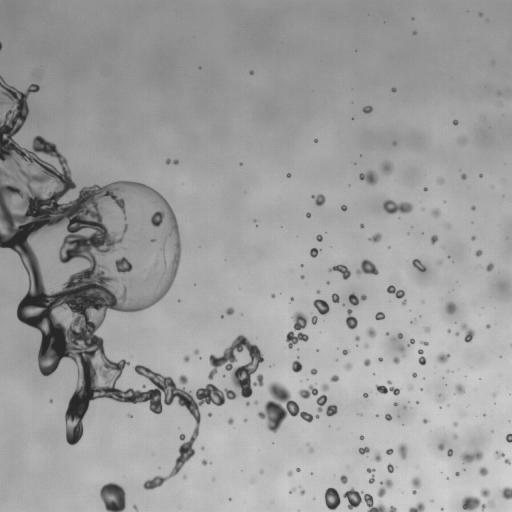droplet: (285, 311, 309, 349), (460, 487, 494, 511), (355, 259, 378, 276), (324, 487, 341, 510), (327, 264, 351, 279), (460, 449, 483, 464), (298, 382, 318, 399), (376, 478, 393, 497), (359, 169, 378, 185), (313, 298, 329, 316), (460, 322, 474, 342), (345, 309, 357, 329), (348, 292, 366, 305), (380, 160, 394, 175), (410, 475, 421, 494), (412, 258, 426, 272), (310, 193, 325, 206), (291, 355, 302, 372), (498, 486, 511, 500), (408, 501, 425, 511), (397, 443, 407, 459), (368, 232, 382, 243), (436, 352, 450, 363), (453, 383, 465, 395), (445, 301, 456, 314), (326, 403, 337, 416), (496, 87, 511, 96), (366, 327, 377, 339), (25, 94, 36, 105), (11, 132, 22, 143), (21, 139, 32, 150), (74, 178, 85, 189), (66, 189, 77, 200), (58, 194, 69, 205), (305, 200, 316, 211), (478, 254, 489, 265), (348, 260, 359, 271), (20, 272, 31, 283), (373, 320, 384, 331), (354, 323, 365, 334), (30, 328, 41, 339), (223, 335, 234, 346), (343, 337, 354, 348), (256, 363, 267, 374), (180, 364, 191, 375), (122, 365, 133, 376), (318, 371, 329, 382), (447, 374, 458, 385), (310, 375, 321, 386), (212, 376, 223, 387), (115, 379, 126, 390), (215, 379, 226, 390), (132, 380, 143, 391), (186, 385, 197, 396), (288, 390, 299, 401), (101, 396, 112, 407), (297, 399, 308, 410), (198, 402, 209, 413), (80, 414, 91, 425), (388, 453, 399, 464), (183, 458, 194, 469), (469, 459, 480, 470), (376, 468, 387, 479), (478, 476, 489, 487), (282, 477, 293, 488), (357, 483, 368, 494), (367, 484, 378, 495), (491, 489, 502, 500), (379, 496, 390, 507), (309, 247, 321, 257), (372, 450, 382, 462), (456, 136, 467, 146), (387, 462, 397, 473), (478, 466, 488, 476), (494, 450, 505, 459), (357, 446, 369, 454), (431, 208, 440, 218), (331, 293, 340, 303), (343, 362, 353, 371), (436, 393, 445, 403), (362, 105, 373, 113), (430, 234, 438, 245), (374, 312, 385, 320), (225, 306, 234, 315), (182, 354, 191, 363), (5, 77, 14, 86), (385, 153, 394, 162), (391, 160, 400, 169), (373, 167, 382, 176), (389, 169, 398, 178), (436, 214, 445, 223), (339, 293, 348, 302), (451, 310, 460, 319), (416, 318, 425, 327), (360, 333, 369, 342), (247, 335, 256, 344), (383, 355, 392, 364), (59, 356, 68, 365), (301, 363, 310, 372), (216, 364, 225, 373), (262, 376, 271, 385), (412, 390, 421, 399), (265, 392, 274, 401), (257, 402, 266, 411), (260, 417, 269, 426), (466, 445, 475, 454), (452, 449, 461, 458), (381, 454, 390, 463), (471, 489, 480, 498), (123, 495, 132, 504), (339, 497, 348, 506), (504, 442, 511, 453), (436, 175, 444, 184), (486, 262, 494, 271), (310, 315, 318, 324), (330, 374, 339, 382), (321, 383, 329, 392), (340, 474, 347, 484), (505, 447, 511, 458), (121, 505, 132, 511), (335, 505, 346, 511), (356, 505, 367, 511), (397, 505, 408, 511), (363, 358, 371, 366), (385, 413, 393, 421), (227, 416, 234, 425), (505, 433, 511, 443), (475, 249, 482, 257), (392, 356, 399, 364), (385, 448, 393, 455), (504, 458, 511, 466), (0, 222, 5, 233), (447, 448, 453, 457), (368, 474, 374, 483), (419, 341, 429, 346), (460, 173, 467, 180), (340, 204, 347, 211), (423, 326, 430, 333), (310, 368, 317, 375), (437, 443, 444, 450), (286, 470, 293, 477), (25, 114, 32, 121), (43, 134, 50, 141), (55, 145, 62, 152), (70, 175, 77, 182), (394, 197, 401, 204), (437, 203, 444, 210), (424, 207, 431, 214), (394, 209, 401, 216), (439, 209, 446, 216), (375, 240, 382, 247), (313, 241, 320, 248), (3, 246, 10, 253), (178, 257, 185, 264), (442, 257, 449, 264), (177, 262, 184, 269), (297, 267, 304, 274), (334, 270, 341, 277), (349, 271, 356, 278), (174, 272, 181, 279), (170, 282, 177, 289), (18, 291, 25, 298), (164, 291, 171, 298), (446, 295, 453, 302), (325, 297, 332, 304), (345, 301, 352, 308), (454, 302, 461, 309), (11, 303, 18, 310), (439, 303, 446, 310), (105, 307, 112, 314), (449, 312, 456, 319), (466, 322, 473, 329), (300, 327, 307, 334), (351, 327, 358, 334), (93, 329, 100, 336), (459, 330, 466, 337), (402, 335, 409, 342), (296, 339, 303, 346), (101, 341, 108, 348), (413, 342, 420, 349), (394, 350, 401, 357), (214, 351, 221, 358), (189, 353, 196, 360), (112, 356, 119, 363), (370, 357, 377, 364), (285, 362, 292, 369), (206, 363, 213, 370), (50, 370, 57, 377), (161, 370, 168, 377), (249, 374, 256, 381), (458, 377, 465, 384), (328, 380, 335, 387), (175, 381, 182, 388), (301, 383, 308, 390), (448, 384, 455, 391), (463, 384, 470, 391), (66, 390, 73, 397), (376, 391, 383, 398), (455, 393, 462, 400), (247, 394, 254, 401), (309, 394, 316, 401), (391, 394, 398, 401), (125, 401, 132, 408), (61, 402, 68, 409), (180, 405, 187, 412), (284, 412, 291, 419), (199, 413, 206, 420), (451, 426, 458, 433), (77, 437, 84, 444), (400, 437, 407, 444), (358, 440, 365, 447), (191, 442, 198, 449), (405, 448, 412, 455), (392, 449, 399, 456), (367, 450, 374, 457), (168, 460, 175, 467), (463, 461, 470, 468), (486, 465, 493, 472), (159, 470, 166, 477), (384, 471, 391, 478), (146, 473, 153, 480), (475, 473, 482, 480), (103, 477, 110, 484), (419, 477, 426, 484), (114, 478, 121, 485), (406, 483, 413, 490), (384, 487, 391, 494), (337, 489, 344, 496), (479, 496, 486, 503), (372, 499, 379, 506), (456, 499, 463, 506), (410, 500, 417, 507), (383, 502, 390, 509), (253, 219, 259, 227), (342, 349, 350, 355), (366, 468, 375, 473), (506, 479, 511, 488), (98, 506, 107, 511), (472, 506, 481, 511), (316, 234, 322, 241), (436, 259, 442, 266), (410, 317, 416, 324), (363, 342, 369, 349), (363, 392, 369, 399), (132, 504, 138, 511), (422, 418, 430, 423), (452, 119, 458, 125), (400, 299, 406, 305), (193, 348, 199, 354), (407, 384, 413, 390), (452, 421, 458, 427), (459, 411, 464, 418), (359, 434, 364, 441), (470, 205, 475, 211), (306, 212, 311, 218), (444, 223, 450, 228), (470, 235, 476, 240), (270, 293, 276, 298), (289, 297, 294, 303), (354, 335, 359, 341), (492, 391, 497, 397), (393, 402, 399, 407), (452, 433, 457, 439), (507, 497, 511, 504), (422, 507, 429, 511), (483, 507, 490, 511), (249, 70, 254, 75), (391, 87, 396, 92), (392, 141, 397, 146), (446, 328, 451, 333), (378, 357, 383, 362), (412, 372, 417, 377), (207, 412, 212, 417), (182, 474, 187, 479), (481, 14, 486, 19), (248, 65, 253, 70), (33, 79, 38, 84), (498, 95, 503, 100), (366, 100, 371, 105), (362, 101, 367, 106), (371, 104, 376, 109), (369, 110, 374, 115), (363, 112, 368, 117), (23, 119, 28, 124), (18, 127, 23, 132), (34, 131, 39, 136), (161, 156, 166, 161), (168, 161, 173, 166), (175, 163, 180, 168), (361, 169, 366, 174), (465, 172, 470, 177), (354, 174, 359, 179), (456, 175, 461, 180), (113, 176, 118, 181), (127, 176, 132, 181), (134, 177, 139, 182), (361, 178, 366, 183), (459, 178, 464, 183), (144, 180, 149, 185), (148, 182, 153, 187), (153, 185, 158, 190), (158, 189, 163, 194), (313, 191, 318, 196), (162, 193, 167, 198), (384, 195, 389, 200), (324, 196, 329, 201), (166, 198, 171, 203), (310, 198, 315, 203), (321, 202, 326, 207), (378, 202, 383, 207), (169, 203, 174, 208), (172, 208, 177, 213), (381, 209, 386, 214), (175, 215, 180, 220), (176, 220, 181, 225), (177, 226, 182, 231), (368, 232, 373, 237), (321, 233, 326, 238), (426, 237, 431, 242), (368, 240, 373, 245), (434, 240, 439, 245), (179, 243, 184, 248), (473, 246, 478, 251), (478, 254, 483, 259), (367, 256, 372, 261), (333, 260, 338, 265), (407, 260, 412, 265), (482, 262, 487, 267), (356, 264, 361, 269), (374, 264, 379, 269), (346, 265, 351, 270), (411, 266, 416, 271), (491, 266, 496, 271), (368, 272, 373, 277), (347, 275, 352, 280), (299, 278, 304, 283), (394, 285, 399, 290), (347, 289, 352, 294), (273, 290, 278, 295), (390, 292, 395, 297), (355, 293, 360, 298), (315, 294, 320, 299), (397, 297, 402, 302), (157, 299, 162, 304), (358, 299, 363, 304), (154, 301, 159, 306), (225, 303, 230, 308), (150, 304, 155, 309), (403, 304, 408, 309), (144, 307, 149, 312), (141, 308, 146, 313), (133, 310, 138, 315), (314, 310, 319, 315), (126, 311, 131, 316), (325, 311, 330, 316), (350, 311, 355, 316), (343, 312, 348, 317), (223, 313, 228, 318), (228, 313, 233, 318), (306, 318, 311, 323), (356, 320, 361, 325), (423, 321, 428, 326), (343, 324, 348, 329), (289, 326, 294, 331), (441, 328, 446, 333), (450, 328, 455, 333), (283, 329, 288, 334), (392, 332, 397, 337), (281, 334, 286, 339), (471, 336, 476, 341), (306, 338, 311, 343), (414, 338, 419, 343), (357, 339, 362, 344), (283, 341, 288, 346), (292, 343, 297, 348), (420, 344, 425, 349), (257, 345, 262, 350), (103, 348, 108, 353), (337, 349, 342, 354), (442, 349, 447, 354), (179, 353, 184, 358), (291, 356, 296, 361), (446, 356, 451, 361), (297, 358, 302, 363), (425, 358, 430, 363), (33, 360, 38, 365), (138, 360, 143, 365), (186, 360, 191, 365), (258, 361, 263, 366), (359, 361, 364, 366), (391, 362, 396, 367), (145, 363, 150, 368), (310, 363, 315, 368), (363, 365, 368, 370), (152, 367, 157, 372), (36, 370, 41, 375), (204, 370, 209, 375), (296, 370, 301, 375), (132, 371, 137, 376), (441, 371, 446, 376), (327, 372, 332, 377), (185, 373, 190, 378), (308, 373, 313, 378), (337, 373, 342, 378), (41, 374, 46, 379), (416, 374, 421, 379), (186, 376, 191, 381), (261, 377, 266, 382), (377, 380, 382, 385), (114, 383, 119, 388), (201, 383, 206, 388), (384, 383, 389, 388), (392, 383, 397, 388), (151, 384, 156, 389), (140, 387, 145, 392), (372, 387, 377, 392), (387, 390, 392, 395), (316, 391, 321, 396), (380, 392, 385, 397), (48, 393, 53, 398), (173, 395, 178, 400), (223, 396, 228, 401), (243, 396, 248, 401), (493, 396, 498, 401), (88, 399, 93, 404), (405, 402, 410, 407), (434, 402, 439, 407), (440, 402, 445, 407), (220, 403, 225, 408), (397, 403, 402, 408), (321, 404, 326, 409), (298, 407, 303, 412), (150, 411, 155, 416), (295, 413, 300, 418), (331, 413, 336, 418), (254, 414, 259, 419), (379, 414, 384, 419), (223, 416, 228, 421), (455, 417, 460, 422), (191, 418, 196, 423), (232, 419, 237, 424), (301, 419, 306, 424), (227, 424, 232, 429), (197, 428, 202, 433), (267, 429, 272, 434), (61, 434, 66, 439), (184, 436, 189, 441), (178, 439, 183, 444), (439, 439, 444, 444), (63, 440, 68, 445), (433, 442, 438, 447), (303, 445, 308, 450), (442, 448, 447, 453), (175, 451, 180, 456), (504, 453, 509, 458), (189, 455, 194, 460), (499, 456, 504, 461), (290, 466, 295, 471), (392, 468, 397, 473), (458, 469, 463, 474), (292, 470, 297, 475), (341, 470, 346, 475), (282, 472, 287, 477), (366, 472, 371, 477), (485, 472, 490, 477), (287, 475, 292, 480), (139, 479, 144, 484), (162, 480, 167, 485), (97, 484, 102, 489), (153, 486, 158, 491), (353, 486, 358, 491), (295, 487, 300, 492), (321, 487, 326, 492), (147, 488, 152, 493), (320, 499, 325, 504), (321, 502, 326, 507), (455, 331, 459, 337), (412, 30, 416, 35), (313, 138, 318, 142), (286, 173, 291, 177), (478, 173, 483, 177), (423, 187, 428, 191), (360, 223, 364, 228), (300, 275, 305, 279), (486, 324, 490, 329), (269, 363, 274, 367), (142, 384, 146, 389), (49, 398, 53, 403), (253, 400, 258, 404), (295, 467, 300, 471), (259, 469, 263, 474), (455, 471, 459, 476), (429, 499, 434, 503), (127, 414, 133, 417), (478, 12, 482, 16), (420, 207, 424, 211), (326, 280, 330, 284), (316, 290, 320, 294), (415, 400, 419, 404), (438, 405, 442, 409), (243, 418, 247, 422), (329, 508, 334, 511), (404, 508, 409, 511), (464, 508, 469, 511), (239, 162, 243, 165), (406, 231, 409, 235), (387, 245, 390, 249), (240, 312, 243, 316), (220, 314, 223, 318), (295, 348, 299, 351), (334, 358, 338, 361), (403, 405, 406, 409), (446, 404, 450, 407), (482, 413, 486, 416), (490, 430, 494, 433), (201, 446, 204, 450), (462, 468, 466, 471), (212, 477, 215, 481), (228, 497, 231, 501), (0, 158, 2, 163), (411, 17, 414, 20), (198, 66, 201, 69), (443, 200, 446, 203), (447, 255, 450, 258), (300, 264, 303, 267), (177, 299, 180, 302), (421, 300, 424, 303), (342, 303, 345, 306), (499, 355, 502, 358), (198, 356, 201, 359), (372, 372, 375, 375), (222, 374, 225, 377), (422, 377, 425, 380), (299, 379, 302, 382), (420, 388, 423, 391), (376, 414, 379, 417), (397, 415, 400, 418), (310, 472, 313, 475), (446, 476, 449, 479), (312, 497, 315, 500), (440, 507, 443, 510), (479, 9, 482, 12), (411, 13, 414, 16), (411, 19, 414, 22), (415, 28, 418, 31), (409, 30, 412, 33), (412, 34, 415, 37), (1, 44, 4, 47), (199, 63, 202, 66), (195, 64, 198, 67), (200, 67, 203, 70), (196, 68, 199, 71), (253, 71, 256, 74), (249, 74, 252, 77), (2, 76, 5, 79), (392, 84, 395, 87), (395, 87, 398, 90), (388, 88, 391, 91), (391, 91, 394, 94), (348, 116, 351, 119), (353, 116, 356, 119), (454, 116, 457, 119), (351, 119, 354, 122), (457, 122, 460, 125), (451, 123, 454, 126), (313, 135, 316, 138), (317, 138, 320, 141), (313, 142, 316, 145), (356, 153, 359, 156), (170, 159, 173, 162), (178, 159, 181, 162), (239, 159, 242, 162), (164, 163, 167, 166), (236, 163, 239, 166), (239, 165, 242, 168), (288, 170, 291, 173), (478, 170, 481, 173), (459, 171, 462, 174), (283, 174, 286, 177), (290, 174, 293, 177), (477, 176, 480, 179), (286, 177, 289, 180), (140, 180, 143, 183), (347, 180, 350, 183), (424, 184, 427, 187), (420, 187, 423, 190), (427, 187, 430, 190), (423, 190, 426, 193), (308, 193, 311, 196), (339, 202, 342, 205), (344, 202, 347, 205), (468, 204, 471, 207), (474, 204, 477, 207), (474, 208, 477, 211), (339, 209, 342, 212), (344, 209, 347, 212), (469, 209, 472, 212), (303, 211, 306, 214), (310, 213, 313, 216), (303, 215, 306, 218), (255, 216, 258, 219), (360, 220, 363, 223), (255, 221, 258, 224), (357, 224, 360, 227), (363, 224, 366, 227), (255, 226, 258, 229), (360, 227, 363, 230), (419, 229, 422, 232), (314, 232, 317, 235), (471, 232, 474, 235), (468, 235, 471, 238), (321, 238, 324, 241), (472, 239, 475, 242), (390, 244, 393, 247), (388, 248, 391, 251), (307, 249, 310, 252), (448, 252, 451, 255), (309, 255, 312, 258), (444, 255, 447, 258), (412, 256, 415, 259), (416, 256, 419, 259), (449, 256, 452, 259), (300, 260, 303, 263), (420, 260, 423, 263), (303, 263, 306, 266), (344, 263, 347, 266), (20, 264, 23, 267), (329, 265, 332, 268), (298, 266, 301, 269), (301, 266, 304, 269), (303, 273, 306, 276), (297, 276, 300, 279), (323, 279, 326, 282), (190, 283, 193, 286), (195, 283, 198, 286), (324, 283, 327, 286), (385, 284, 388, 287), (316, 286, 319, 289), (402, 288, 405, 291), (331, 290, 334, 293), (337, 292, 340, 295), (293, 296, 296, 299), (179, 297, 182, 300), (271, 297, 274, 300), (338, 297, 341, 300), (287, 298, 290, 301), (174, 299, 177, 302), (179, 300, 182, 303), (290, 300, 293, 303), (405, 300, 408, 303), (376, 309, 379, 312), (380, 309, 383, 312), (373, 311, 376, 314), (418, 311, 421, 314), (217, 314, 220, 317), (415, 315, 418, 318), (372, 316, 375, 319), (410, 317, 413, 320), (376, 319, 379, 322), (406, 320, 409, 323), (315, 321, 318, 324), (410, 323, 413, 326), (489, 323, 492, 326), (482, 324, 485, 327), (421, 327, 424, 330), (488, 327, 491, 330), (400, 330, 403, 333), (382, 331, 385, 334), (307, 334, 310, 337), (387, 334, 390, 337), (409, 335, 412, 338), (424, 338, 427, 341), (354, 340, 357, 343), (407, 340, 410, 343), (466, 341, 469, 344), (409, 343, 412, 346), (316, 345, 319, 348), (343, 346, 346, 349), (355, 346, 358, 349), (312, 348, 315, 351), (315, 351, 318, 354), (448, 351, 451, 354), (497, 352, 500, 355), (196, 353, 199, 356), (345, 353, 348, 356), (342, 354, 345, 357), (378, 354, 381, 357), (382, 357, 385, 360), (498, 357, 501, 360), (124, 358, 127, 361), (377, 360, 380, 363), (380, 360, 383, 363), (417, 362, 420, 365), (314, 366, 317, 369), (316, 370, 319, 373), (374, 371, 377, 374), (409, 371, 412, 374), (448, 371, 451, 374), (416, 372, 419, 375), (370, 374, 373, 377), (409, 374, 412, 377), (477, 374, 480, 377), (438, 376, 441, 379), (443, 377, 446, 380), (476, 379, 479, 382), (443, 380, 446, 383), (419, 384, 422, 387), (442, 384, 445, 387), (422, 387, 425, 390), (417, 388, 420, 391), (364, 389, 367, 392), (360, 391, 363, 394), (367, 392, 370, 395), (455, 392, 458, 395), (505, 392, 508, 395), (360, 395, 363, 398), (46, 398, 49, 401), (417, 398, 420, 401), (52, 399, 55, 402), (412, 401, 415, 404), (495, 401, 498, 404), (48, 402, 51, 405), (394, 405, 397, 408), (336, 407, 339, 410), (436, 407, 439, 410), (439, 408, 442, 411), (481, 410, 484, 413), (390, 413, 393, 416), (479, 413, 482, 416), (132, 414, 135, 417), (210, 414, 213, 417), (356, 414, 359, 417), (372, 414, 375, 417), (484, 415, 487, 418), (375, 416, 378, 419), (425, 416, 428, 419), (129, 417, 132, 420), (240, 417, 243, 420), (246, 419, 249, 422), (385, 419, 388, 422), (389, 419, 392, 422), (401, 420, 404, 423), (420, 421, 423, 424), (426, 421, 429, 424), (457, 423, 460, 426), (503, 433, 506, 436), (363, 434, 366, 437), (356, 435, 359, 438), (268, 441, 271, 444), (309, 443, 312, 446), (385, 446, 388, 449), (203, 447, 206, 450), (451, 447, 454, 450), (355, 448, 358, 451), (492, 449, 495, 452), (363, 452, 366, 455), (200, 463, 203, 466), (384, 463, 387, 466), (296, 464, 299, 467), (299, 466, 302, 469), (384, 467, 387, 470), (440, 468, 443, 471), (455, 468, 458, 471), (311, 469, 314, 472), (307, 470, 310, 473), (370, 470, 373, 473), (296, 471, 299, 474), (307, 473, 310, 476), (452, 473, 455, 476), (443, 475, 446, 478), (365, 478, 368, 481), (445, 479, 448, 482), (415, 488, 418, 491), (285, 490, 288, 493), (291, 491, 294, 494), (288, 493, 291, 496), (429, 496, 432, 499), (225, 498, 228, 501), (230, 498, 233, 501), (392, 504, 395, 507), (440, 504, 443, 507), (136, 505, 139, 508), (351, 117, 354, 119), (353, 162, 356, 164), (502, 194, 504, 197), (194, 283, 196, 286), (316, 349, 319, 351), (478, 378, 481, 380), (508, 419, 510, 422), (177, 426, 179, 429), (158, 466, 160, 469), (297, 509, 300, 511), (509, 390, 511, 393), (509, 394, 511, 397), (509, 417, 511, 420), (509, 420, 511, 423), (509, 430, 511, 433), (438, 509, 441, 511), (442, 509, 445, 511), (360, 154, 362, 156), (348, 184, 350, 186), (471, 221, 473, 223), (421, 232, 423, 234), (198, 245, 200, 247), (409, 309, 411, 311), (419, 315, 421, 317), (454, 322, 456, 324), (356, 344, 358, 346), (442, 377, 444, 379), (306, 378, 308, 380), (509, 393, 511, 395), (408, 401, 410, 403), (328, 425, 330, 427), (272, 442, 274, 444), (398, 216, 399, 218), (494, 402, 495, 404), (402, 424, 404, 425), (440, 472, 442, 473), (445, 384, 446, 385)
ligament: (382, 199, 413, 214), (375, 380, 401, 395), (386, 285, 404, 298), (385, 332, 403, 341), (417, 348, 426, 365), (165, 158, 179, 165), (398, 344, 405, 357), (306, 442, 314, 453), (406, 338, 414, 347), (201, 459, 212, 465), (446, 369, 453, 373), (356, 413, 363, 416), (0, 41, 2, 51), (310, 311, 313, 314), (510, 343, 511, 347), (272, 500, 273, 503), (182, 182, 183, 184)
